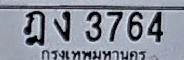3: (86, 10, 101, 41)
4: (147, 10, 163, 42)
6: (127, 10, 143, 40)
7: (106, 10, 123, 42)
A07: (53, 10, 70, 40)
A14: (23, 10, 45, 45)
BKK: (39, 47, 149, 60)
